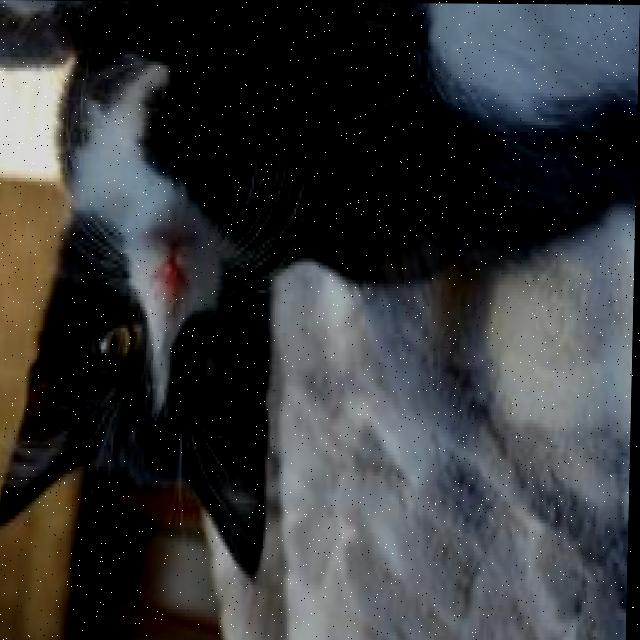Tuxedo: (0, 0, 640, 587)
